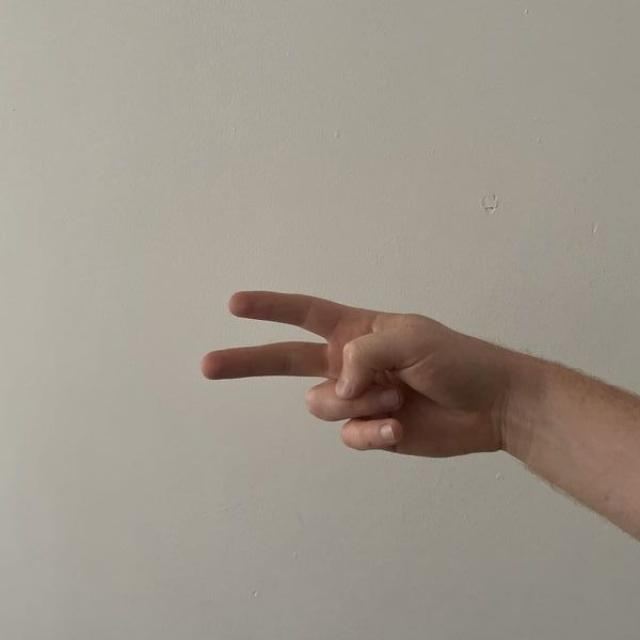scissors: (195, 286, 540, 469)
